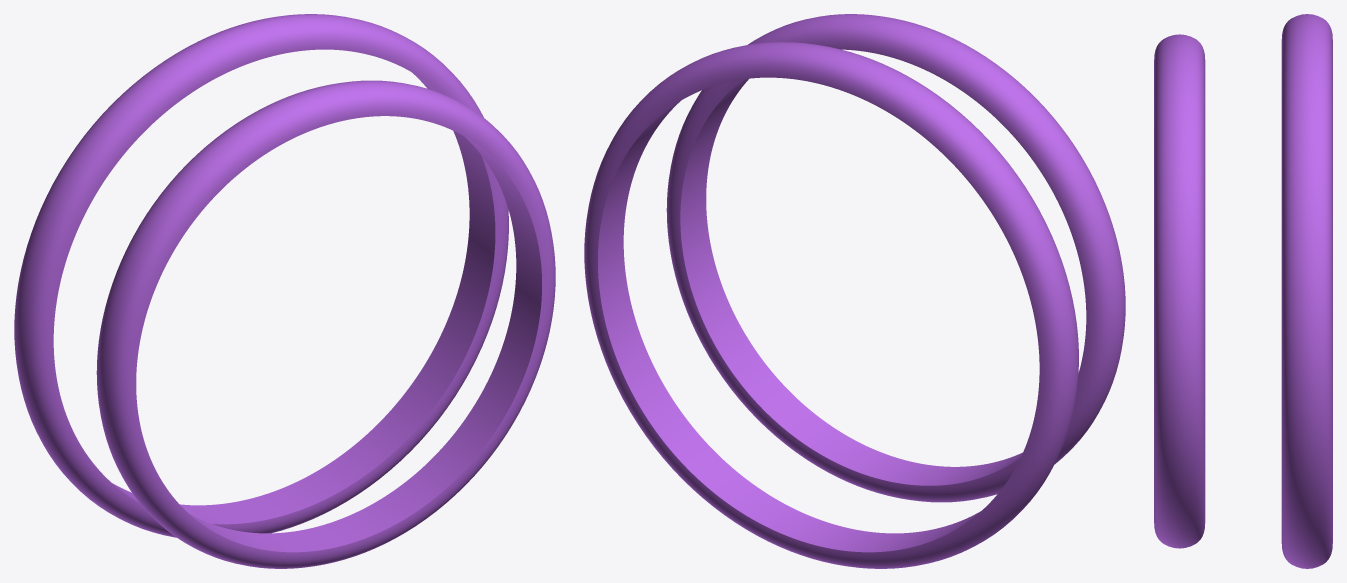
The picture shows the model from 3 angles, left to right: view 1: azimuth 30°, elevation 25°; view 2: azimuth 150°, elevation 25°; view 3: azimuth 270°, elevation 25°; orthographic projection.
Visible parts, largest first — view 1: 2mm.3dm; view 2: 2mm.3dm; view 3: 2mm.3dm.
Part boxes in pixels (x1,y1,x2,y2): 2mm.3dm: (14,14,555,568); 2mm.3dm: (584,14,1125,568); 2mm.3dm: (1154,14,1332,568).
Size of the model in its own units: 2.76 by 2.76 by 0.888.
